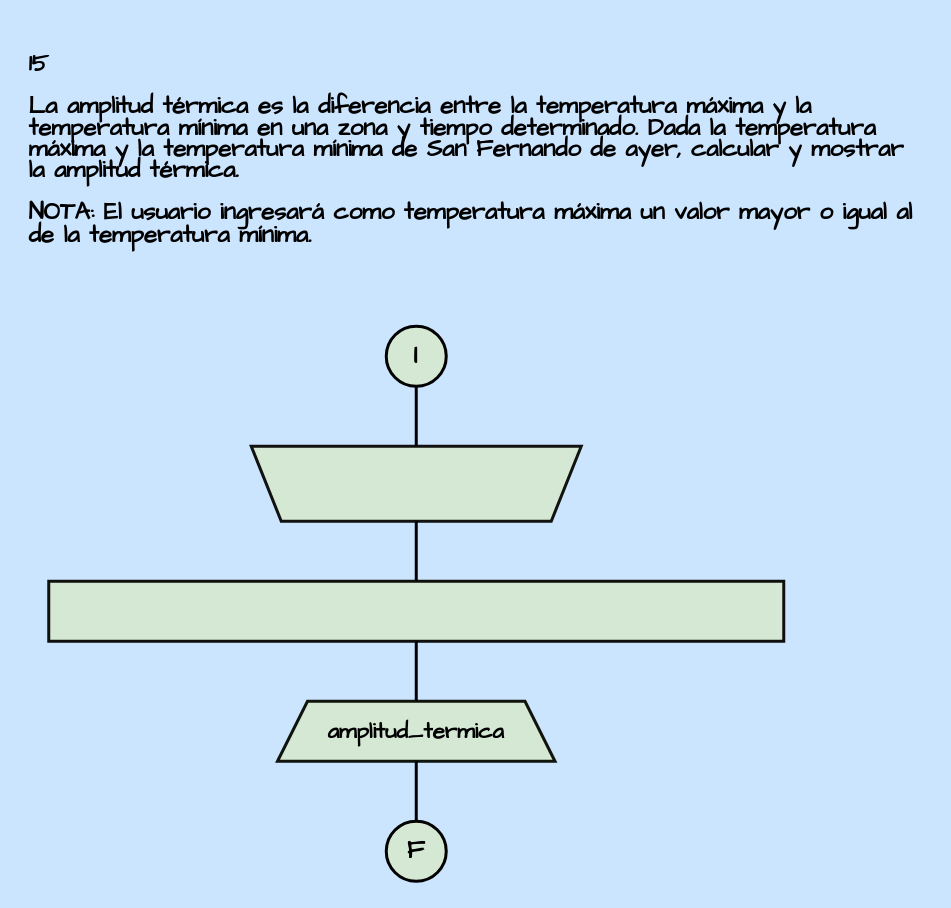
This 951x908 diagram has some shape labels left out. Here are the shapes that lost their labels. From the top down, the centre of each, then its label:
At pixel 415 483: "temperatura_maxima, temperatura_minima".
At pixel 415 610: "amplitud_termica = temperatura_maxima - temperatura_minima".
